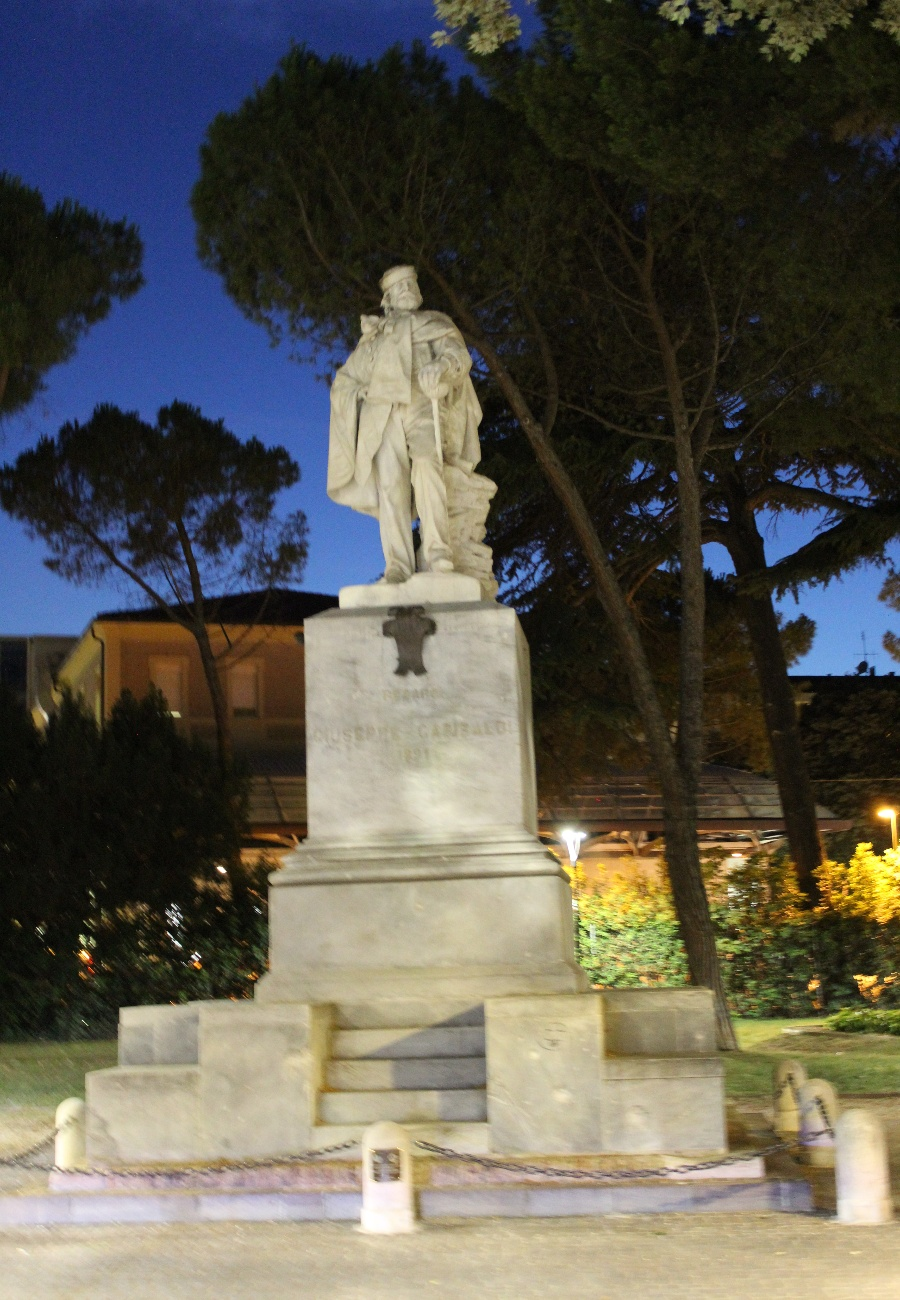Giuseppe Garibaldi: (326, 263, 501, 611)
